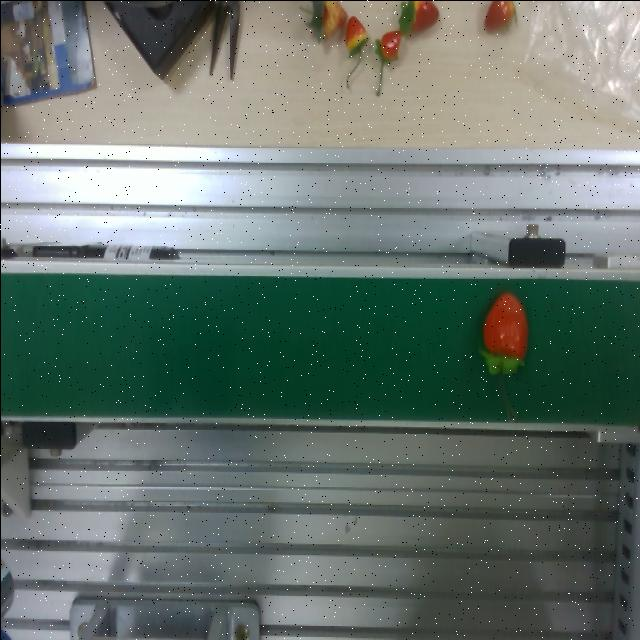Small Ripe Strawberry: (479, 286, 534, 389)
conveyor: (0, 263, 640, 436)
